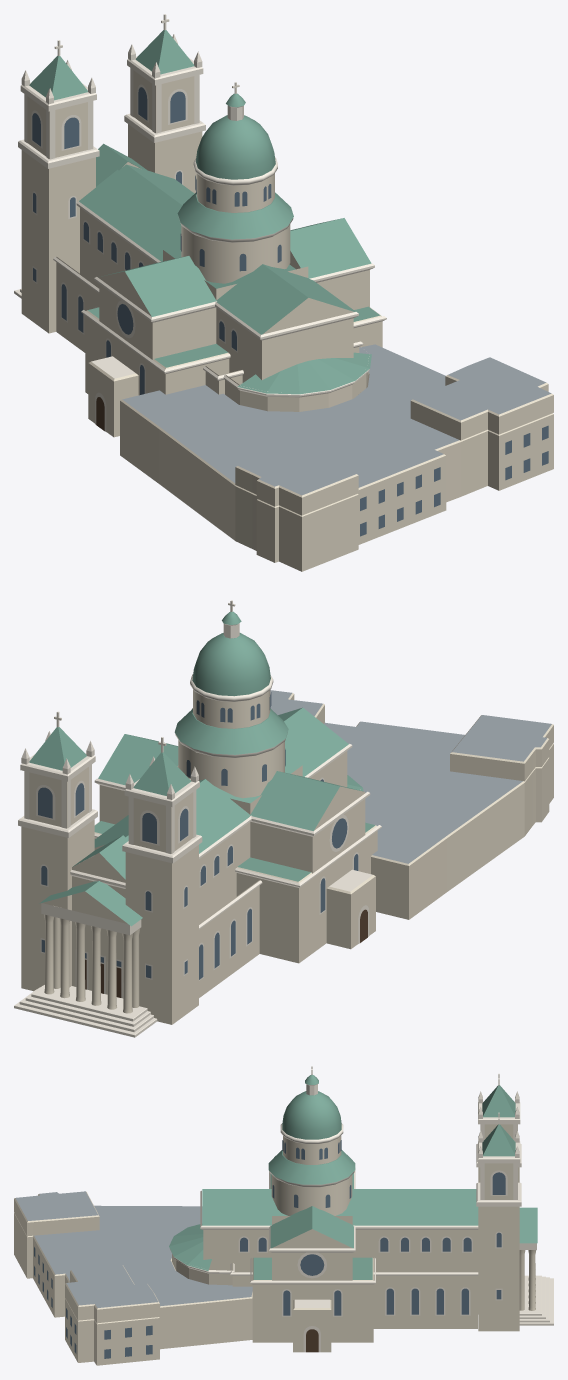
File: ric-cathedral-sacred-heart.glb
3 views of the same model, one above another, from view 1: azimuth 30°, elevation 25°; view 2: azimuth 150°, elevation 25°; view 3: azimuth 270°, elevation 25° (orthographic). The views are drawn at different scales.
Parts seen in each view (by area): view 1: Cathedral of the Sacred Heart; view 2: Cathedral of the Sacred Heart; view 3: Cathedral of the Sacred Heart.
Boxes of the visible parts, left/top/right/bottom form: Cathedral of the Sacred Heart: left=14, top=14, right=553, bottom=571; Cathedral of the Sacred Heart: left=14, top=600, right=553, bottom=1037; Cathedral of the Sacred Heart: left=14, top=1066, right=553, bottom=1365.
Size of the model in its own units: 48.8 by 45.6 by 94.4.
